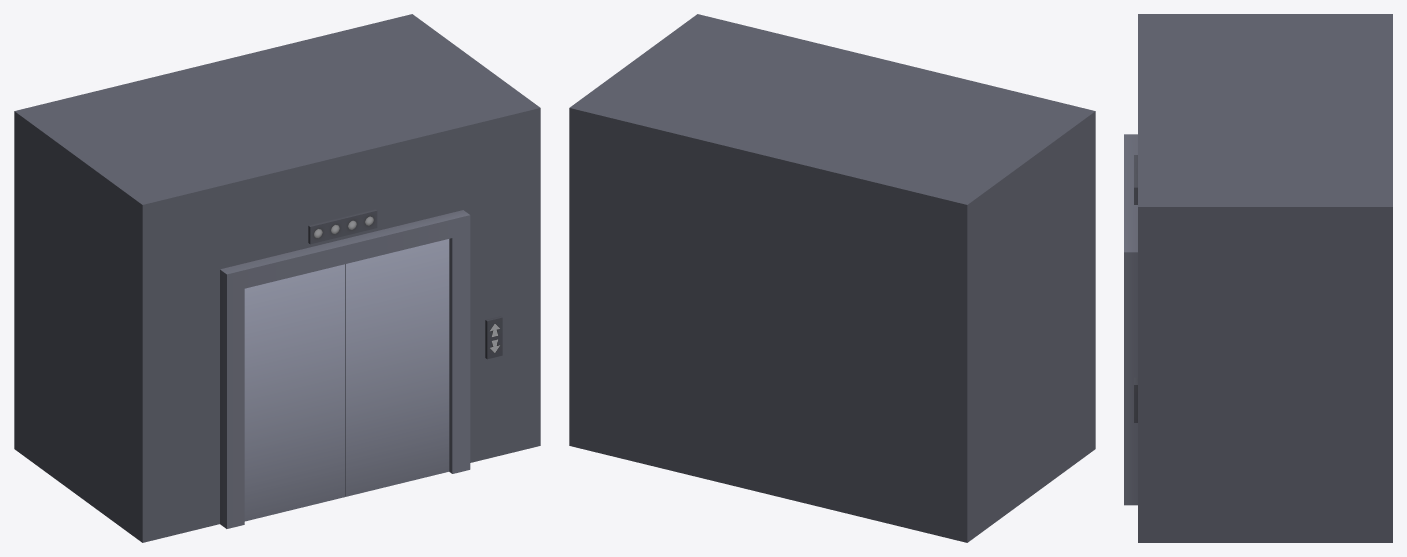
The model's file is Elevator door.fbx.
The picture shows the model from 3 angles, left to right: view 1: azimuth 30°, elevation 25°; view 2: azimuth 150°, elevation 25°; view 3: azimuth 270°, elevation 25°; orthographic projection.
Parts seen in each view (by area): view 1: Elevator door; view 2: Elevator door; view 3: Elevator door.
Part boxes in pixels (x1=…): Elevator door: x1=14, y1=14, x2=540, y2=542; Elevator door: x1=569, y1=14, x2=1095, y2=542; Elevator door: x1=1124, y1=14, x2=1392, y2=542.
Size of the model in its own units: 4.45 by 3.61 by 2.62.
1 material, 1 textured.
